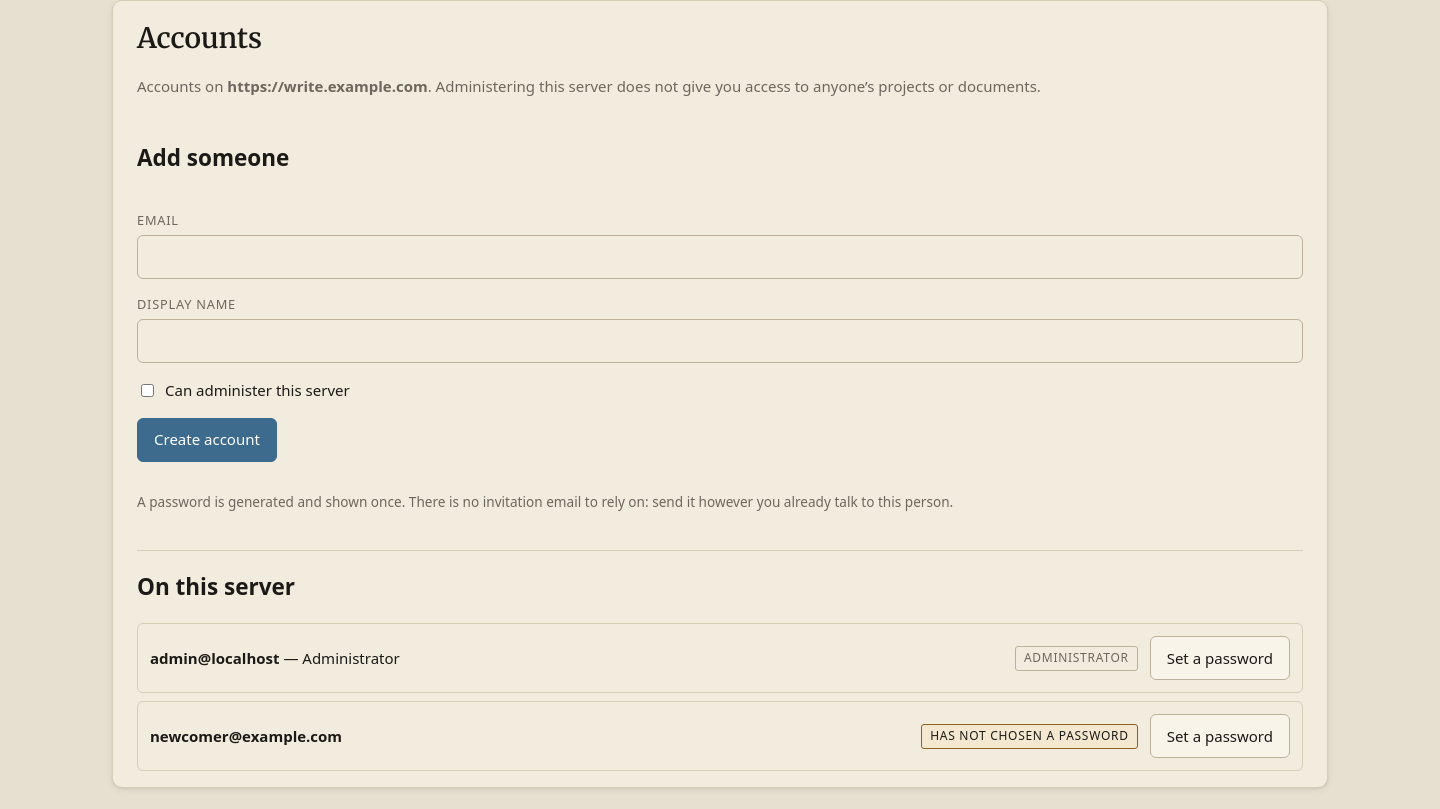
Test: adding someone › clears the form after, so the next one does not inherit the last address
The image size is (1440, 809).
Expected: the text "newcomer@example.com" is shown, 150,726 -> 342,746
Type "someone@example.com" into the field labelled "Email".
click(720, 257); type("someone@example.com")  # box 137,235 -> 1303,279
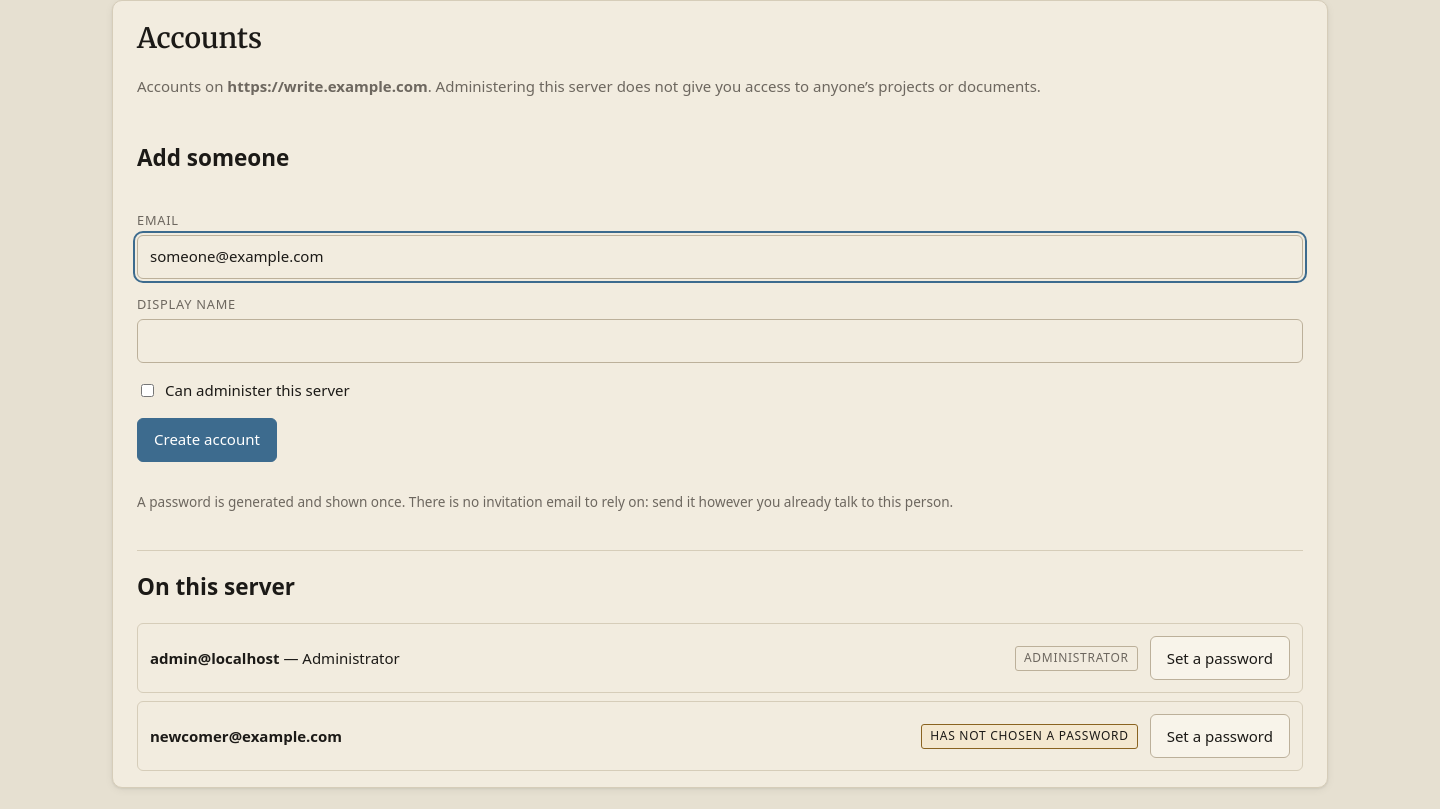
Click the button "Create account".
click(207, 440)  # box 137,418 -> 277,462
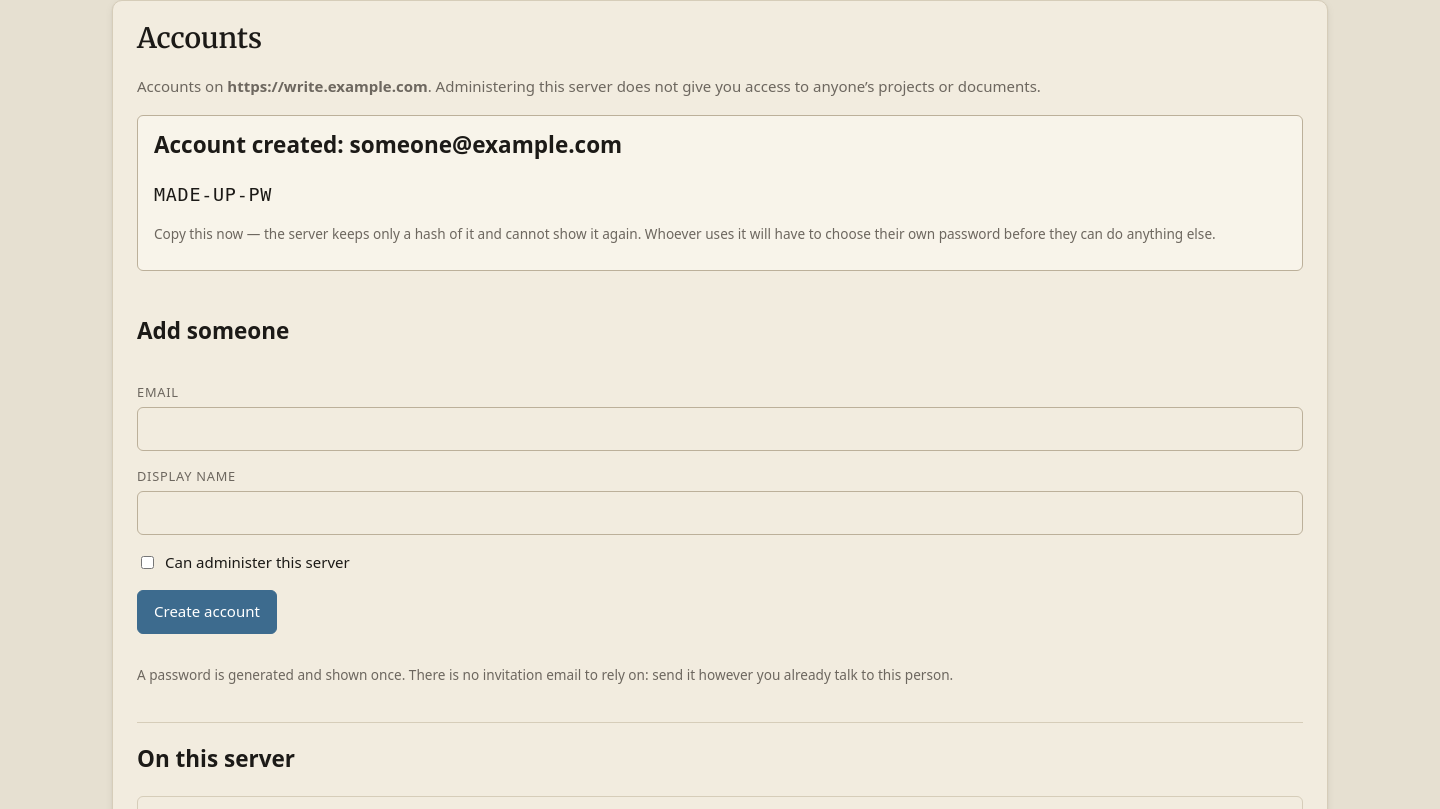
Expected: the text "MADE-UP-PW" is shown, 154,184 -> 272,205
Expected: the field labelled "Email" is empty, 137,407 -> 1303,451
